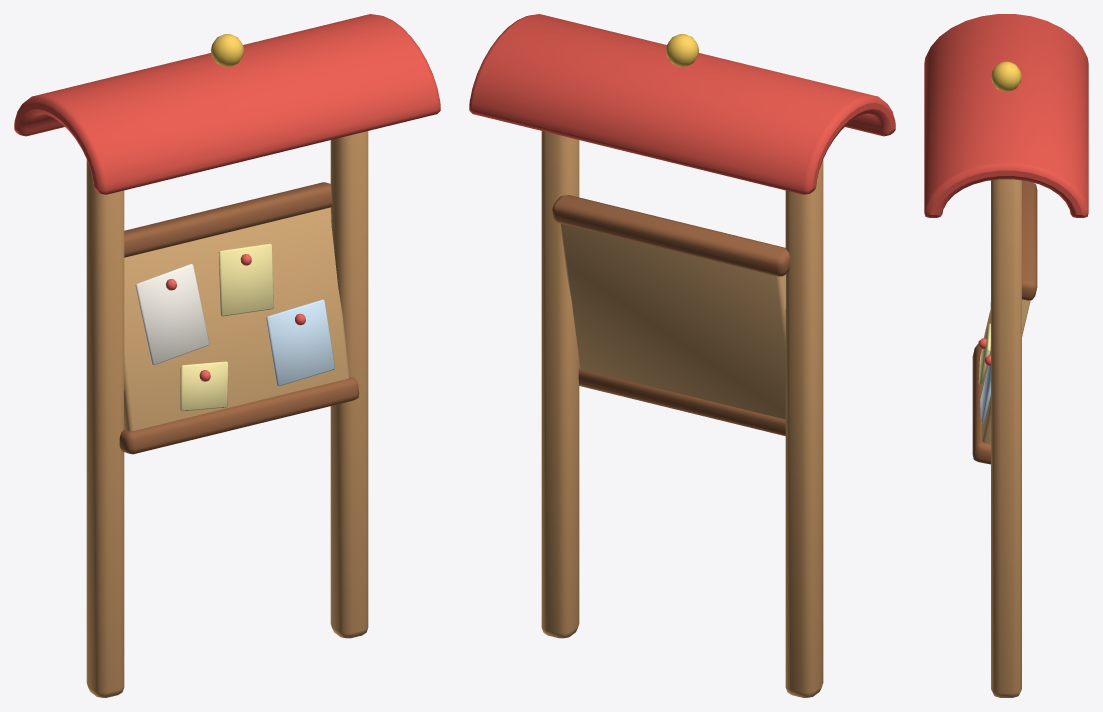
The model's file is prop_board.glb.
3 views of the same model, side by side, from view 1: azimuth 30°, elevation 25°; view 2: azimuth 150°, elevation 25°; view 3: azimuth 270°, elevation 25° (orthographic). The views are drawn at different scales.
Parts seen in each view (by area): view 1: prop_board; view 2: prop_board; view 3: prop_board.
Boxes of the visible parts, x1,y1,x2,y2 form: prop_board: (14, 14, 440, 697); prop_board: (469, 14, 895, 697); prop_board: (924, 14, 1088, 697).
Size of the model in its own units: 1.18 by 2.07 by 0.5344.
